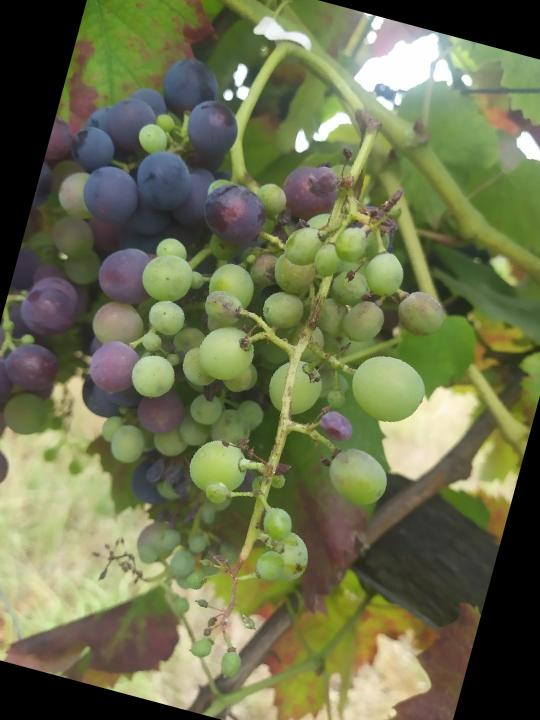grape: (44, 123, 482, 713)
